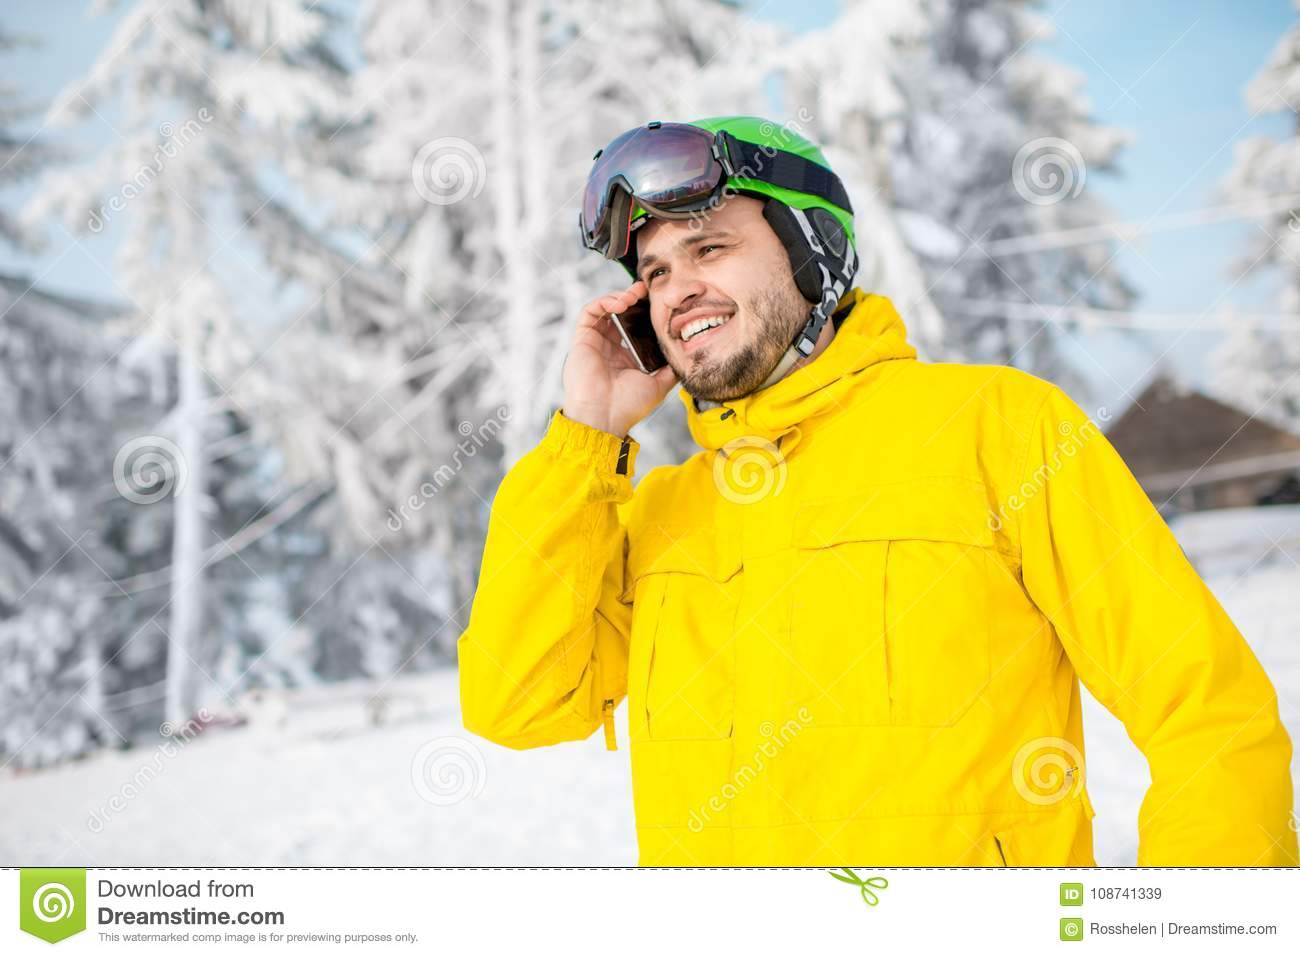phone: (608, 290, 668, 377)
talk: (562, 219, 755, 425)
